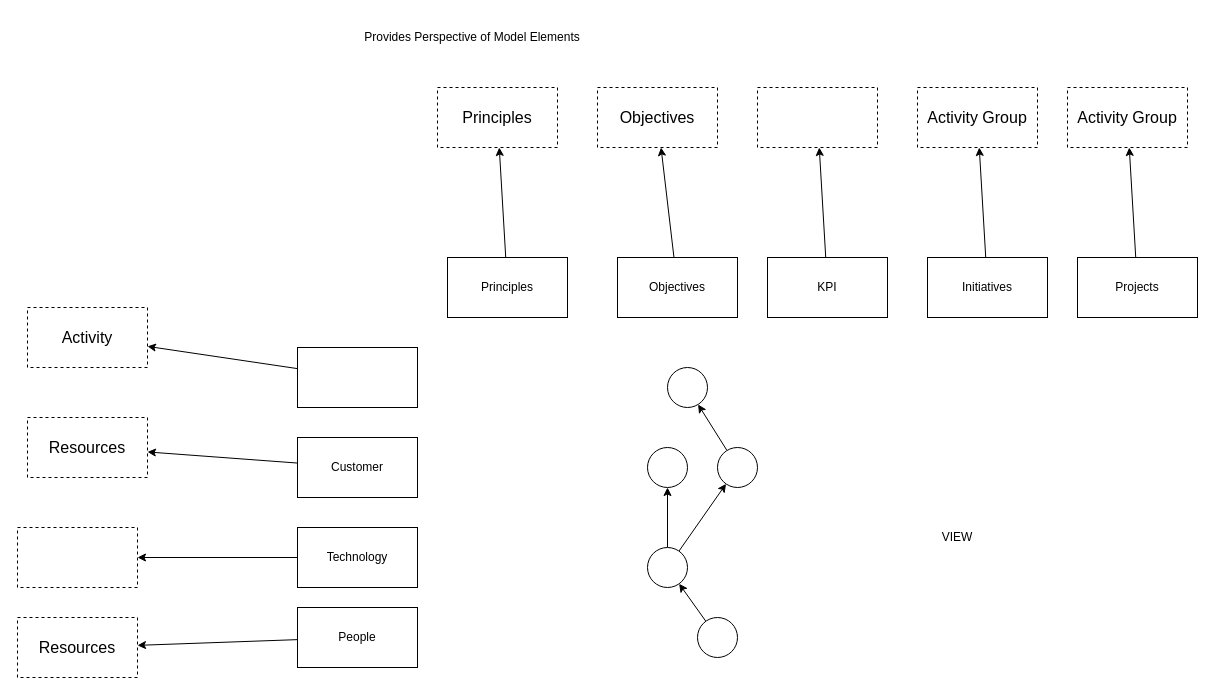
Some shapes in this 1215 by 695 pixel diagram are drawn without their labels. Each missing label, with the centre of its shape:
"Finacial" belongs at (x=357, y=377).
"Metric" belongs at (x=817, y=117).
"Structure" belongs at (x=77, y=557).
